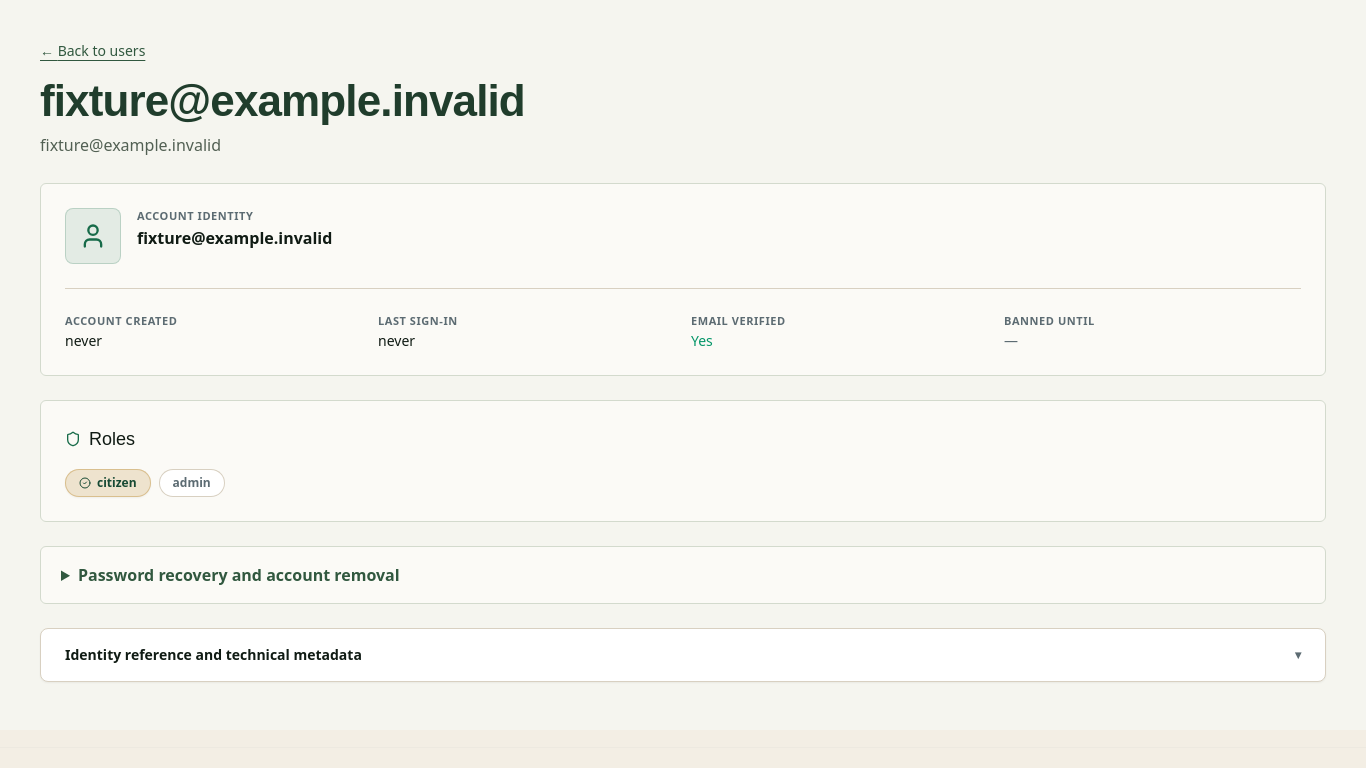
it: role false acknowledgment retains pending edits
Expected: the heading "Roles" is shown, [89, 425, 135, 453]
What coordinates should you click on to do the following:
click the button "admin"
I would click on:
 (192, 483)
Its box is [158, 469, 225, 497].
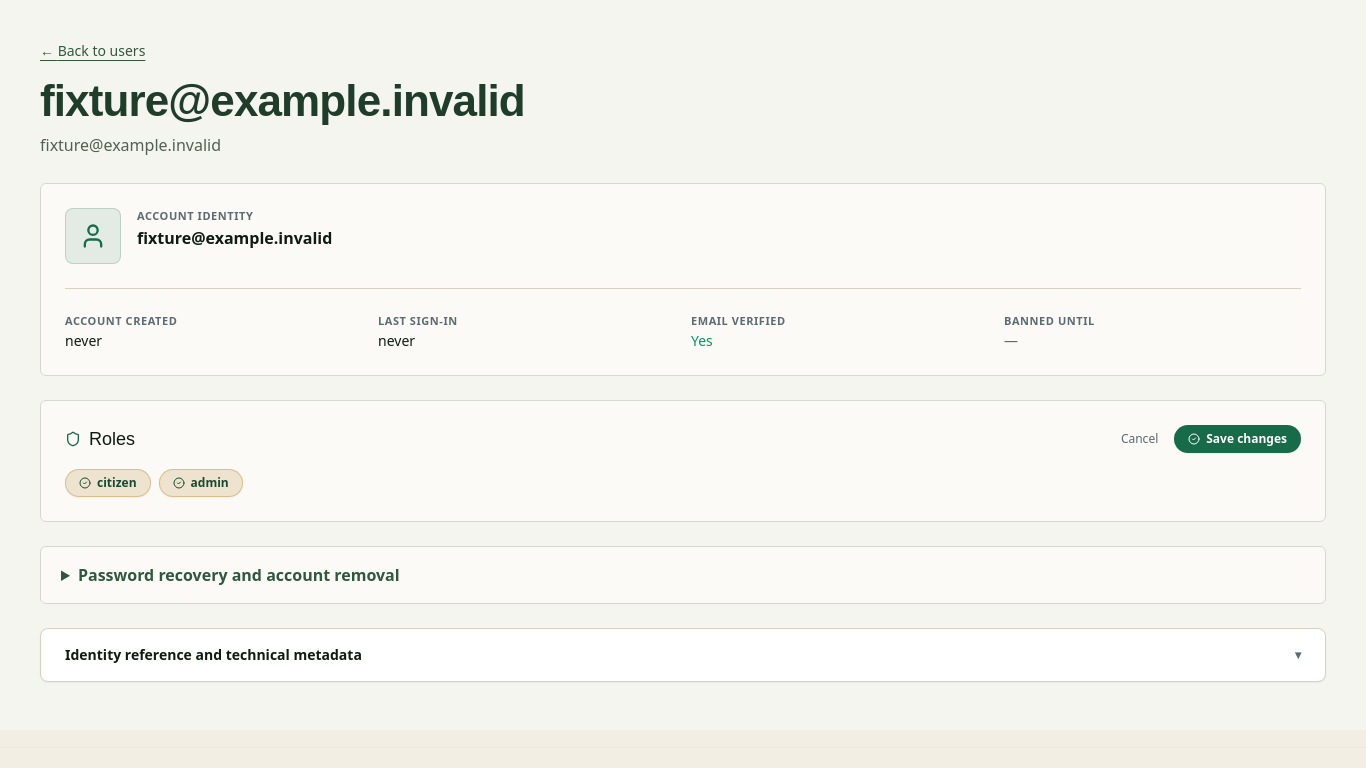
What coordinates should you click on to do the following:
click the button "Save changes"
I would click on:
 (1238, 439)
Its box is [1174, 425, 1301, 453].
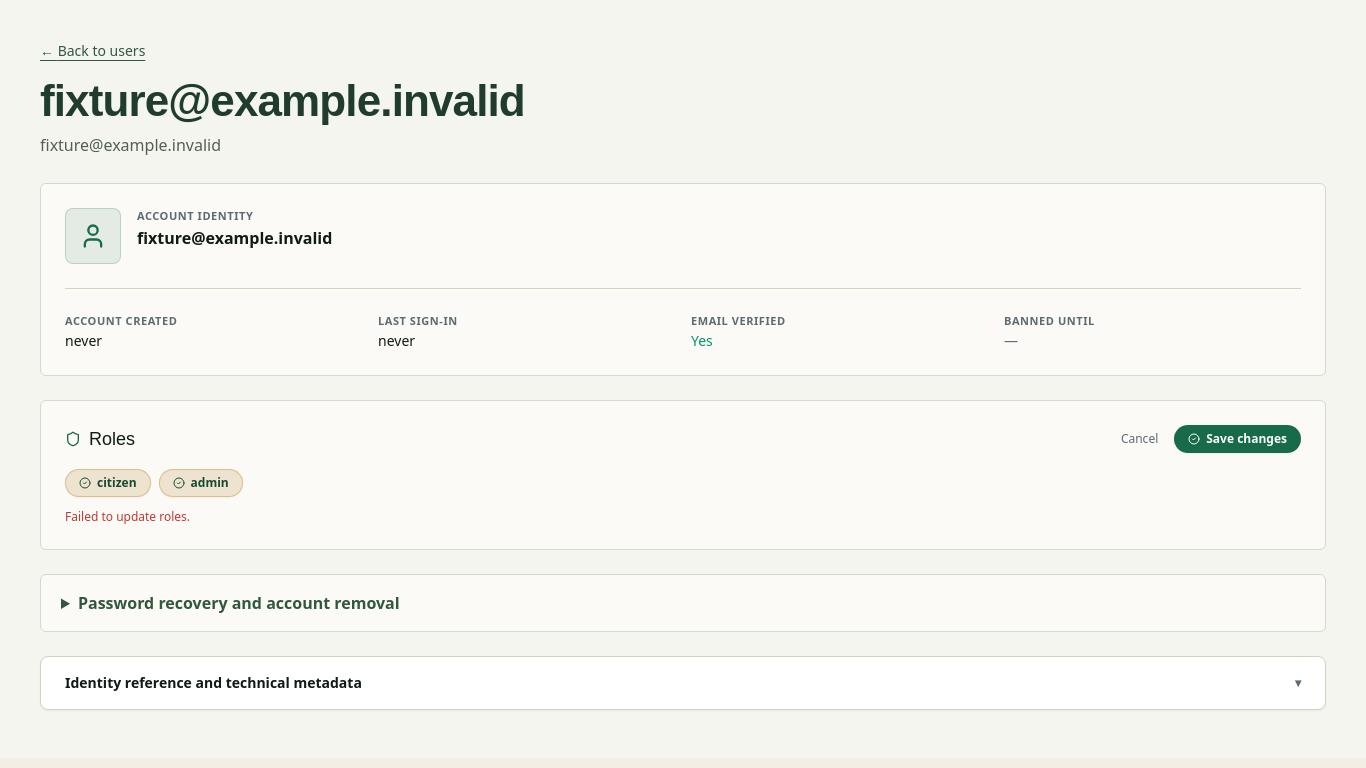
Result: the button "Save changes" is shown at [1174, 425, 1301, 453]
Result: the text "Failed to update roles." is shown at [65, 508, 190, 525]
